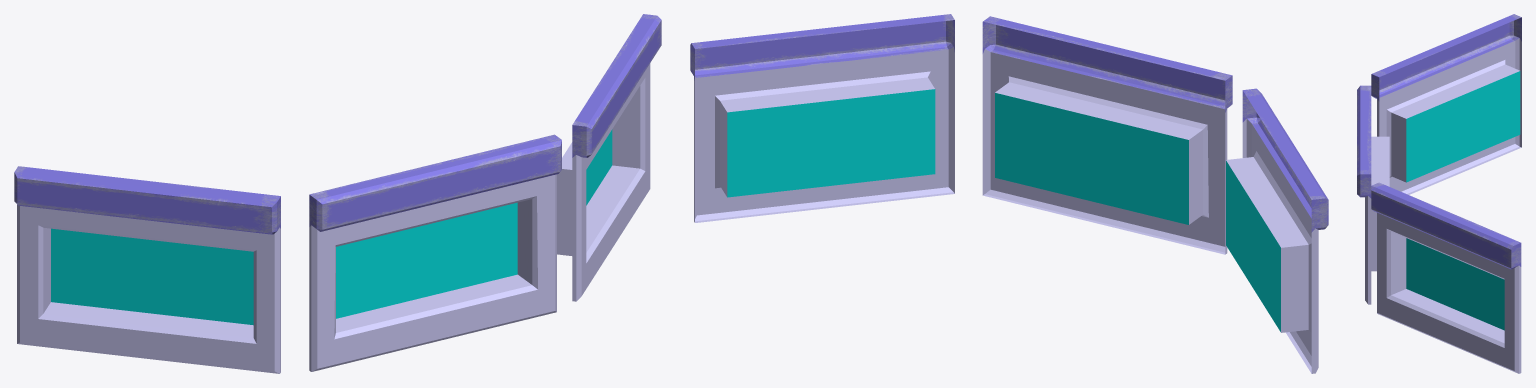
The model's file is LowThreeWindowInsertB.fbx.
3 renders of one model, left to right at view 1: azimuth 30°, elevation 25°; view 2: azimuth 150°, elevation 25°; view 3: azimuth 270°, elevation 25°, orthographic. The views are drawn at different scales.
Parts seen in each view (by area): view 1: LowThreeWindowInsertB; view 2: LowThreeWindowInsertB; view 3: LowThreeWindowInsertB.
Part boxes in pixels (x1,y1,x2,y2): LowThreeWindowInsertB: (14, 14, 661, 373); LowThreeWindowInsertB: (690, 14, 1328, 373); LowThreeWindowInsertB: (1357, 14, 1521, 373).
Bounding box in the file's own units: 2.97 × 0.7748 × 0.8875.
